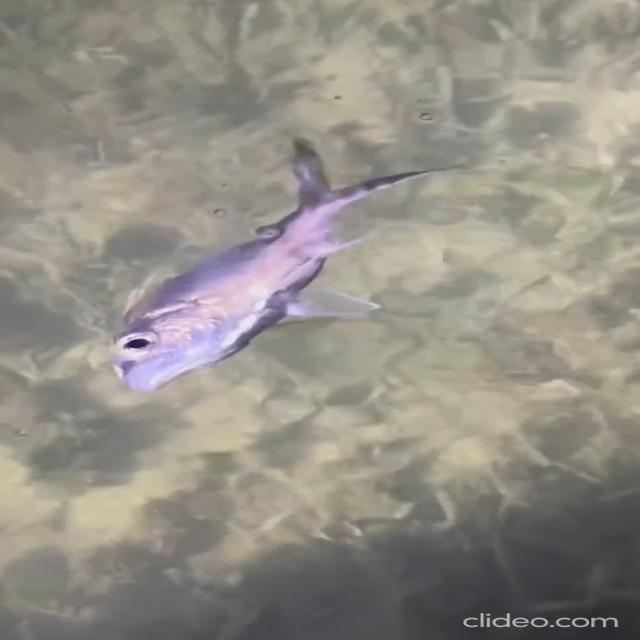fish: (84, 139, 471, 406)
